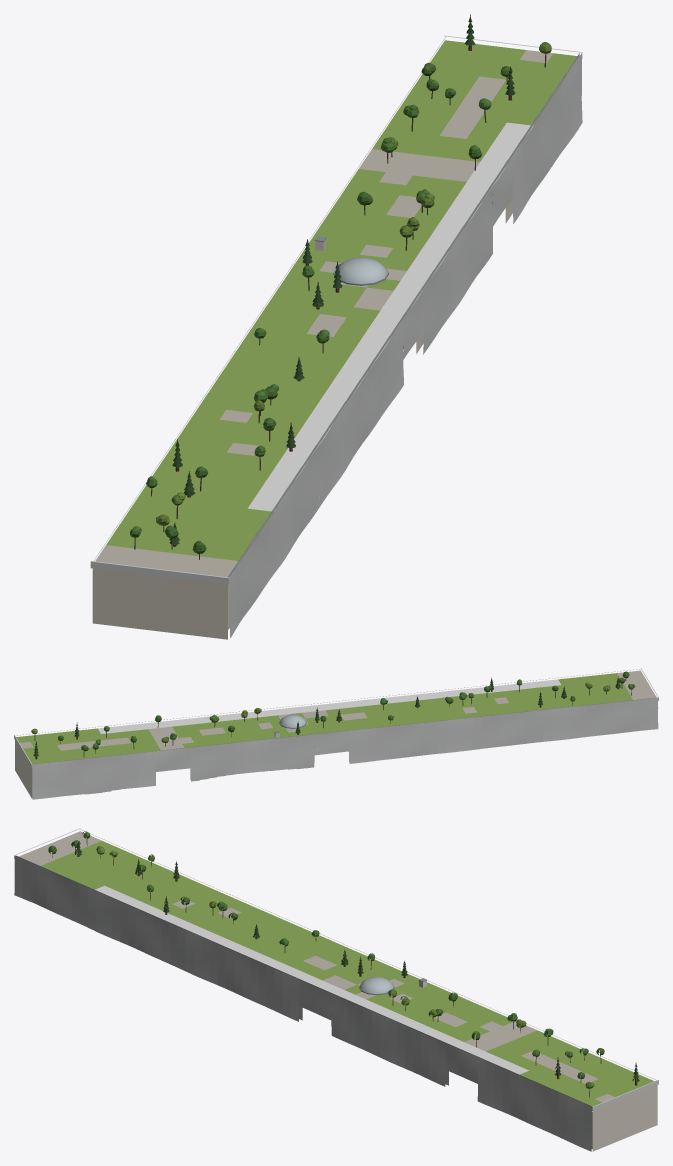
File: transit_lod1.glb
3 renders of one model, top to bottom at view 1: azimuth 30°, elevation 25°; view 2: azimuth 150°, elevation 25°; view 3: azimuth 270°, elevation 25°, orthographic. The views are drawn at different scales.
Parts seen in each view (by area): view 1: L1_grass, L1_paint, L1_water, L1_paving, L1_shop, L1_leaf, L1_glassc, L1_metal; view 2: L1_paint, L1_grass, L1_water, L1_paving, L1_leaf, L1_glassc, L1_shop, L1_metal, L1_bark; view 3: L1_paint, L1_grass, L1_paving, L1_water, L1_shop, L1_leaf, L1_glassc, L1_metal, L1_bark.
Boxes of the visible parts, <box> form: L1_grass: <box>106,40,577,560</box>; L1_paint: <box>90,35,582,638</box>; L1_water: <box>247,122,533,511</box>; L1_paving: <box>95,50,552,576</box>; L1_shop: <box>92,128,562,639</box>; L1_leaf: <box>130,17,551,553</box>; L1_glassc: <box>228,54,579,577</box>; L1_metal: <box>94,37,579,577</box>; L1_paint: <box>14,668,658,799</box>; L1_grass: <box>16,673,632,763</box>; L1_water: <box>98,679,560,734</box>; L1_paving: <box>20,670,656,750</box>; L1_leaf: <box>31,671,635,756</box>; L1_glassc: <box>33,697,657,764</box>; L1_shop: <box>15,732,349,798</box>; L1_metal: <box>17,669,655,764</box>; L1_bark: <box>34,677,631,759</box>; L1_paint: <box>14,828,658,1151</box>; L1_grass: <box>41,841,653,1106</box>; L1_paving: <box>19,831,615,1102</box>; L1_water: <box>95,885,528,1074</box>; L1_shop: <box>38,888,657,1151</box>; L1_leaf: <box>48,831,639,1088</box>; L1_glassc: <box>16,856,591,1106</box>; L1_metal: <box>17,829,655,1106</box>; L1_bark: <box>52,836,637,1097</box>.
Size of the model in its own units: 344 by 38.12 by 336.
